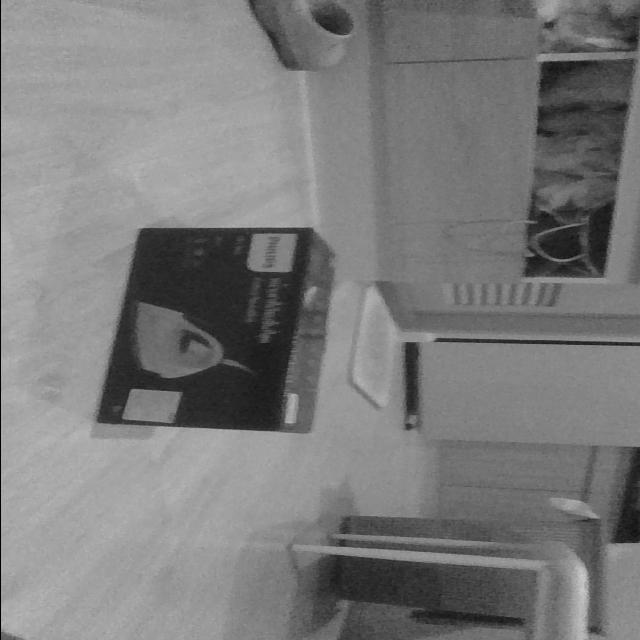IRON: (92, 224, 340, 436)
